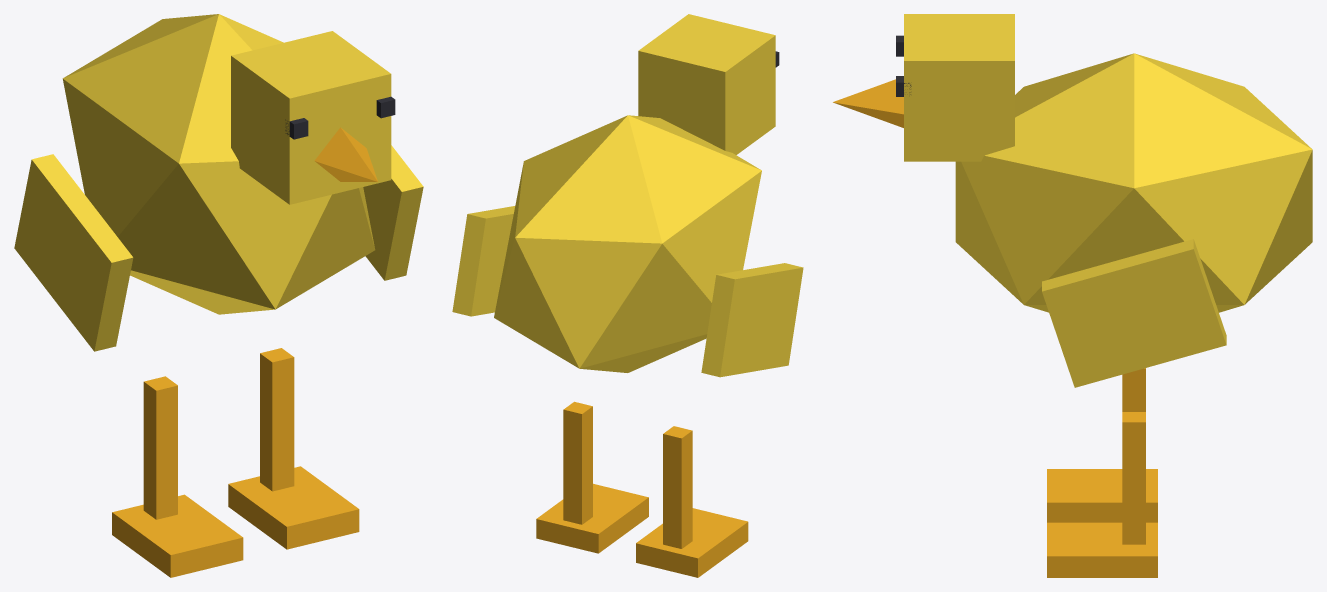
Rendered from duck.glb.
3 renders of one model, left to right at view 1: azimuth 30°, elevation 25°; view 2: azimuth 150°, elevation 25°; view 3: azimuth 270°, elevation 25°, orthographic. The views are drawn at different scales.
Parts seen in each view (by area): view 1: duck; view 2: duck; view 3: duck.
Part boxes in pixels (x1,y1,x2,y2): duck: (14, 14, 423, 577); duck: (452, 14, 803, 577); duck: (833, 14, 1312, 577).
Bounding box in the file's own units: 0.387 × 0.621 × 0.5441.
